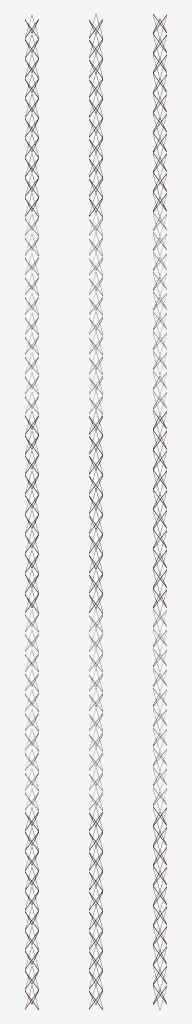
The model's file is des_lodtranstwr.obj.
3 views of the same model, side by side, from view 1: azimuth 30°, elevation 25°; view 2: azimuth 150°, elevation 25°; view 3: azimuth 330°, elevation 25° (orthographic).
Parts seen in each view (by area): view 1: des_lodtranstwr; view 2: des_lodtranstwr; view 3: des_lodtranstwr.
Boxes of the visible parts, x1,y1,x2,y2 form: des_lodtranstwr: (25,15,38,1009); des_lodtranstwr: (89,14,102,1009); des_lodtranstwr: (153,14,166,1009).
Size of the model in its own units: 1.13 by 100 by 1.3.
1 material, 1 textured.
